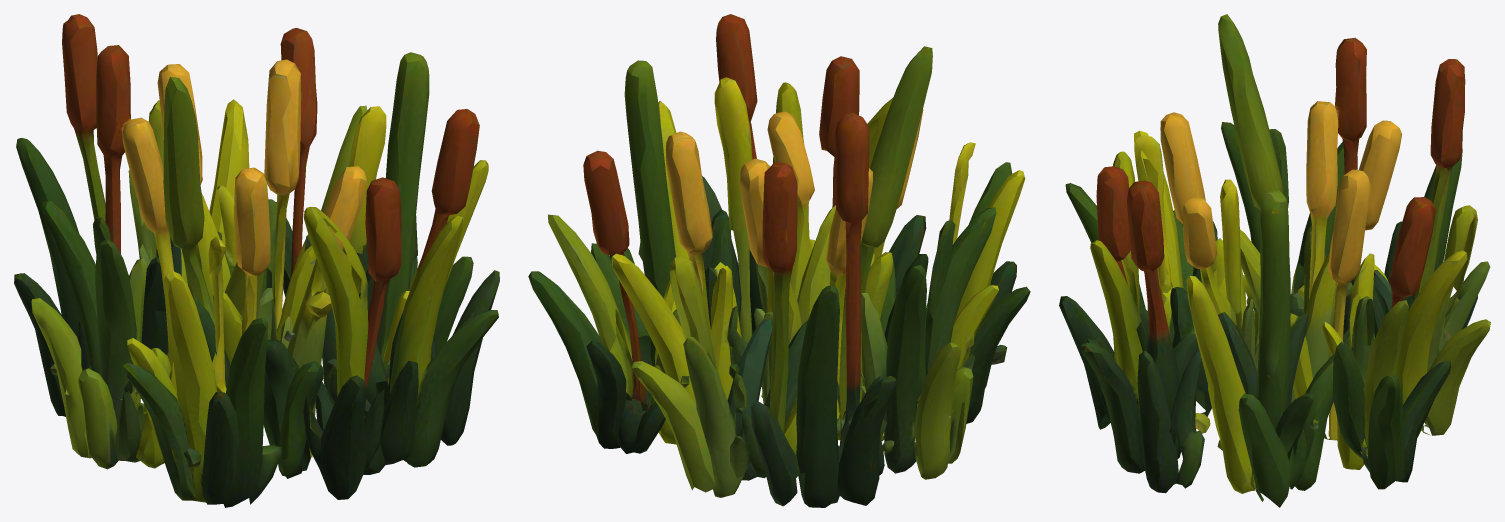
File: a-dense-clump-of-tall-swamp-reed-b569ba.glb
The picture shows the model from 3 angles, left to right: view 1: azimuth 30°, elevation 25°; view 2: azimuth 150°, elevation 25°; view 3: azimuth 270°, elevation 25°; orthographic projection. The views are drawn at different scales.
Visible parts, largest first — view 1: geometry_0; view 2: geometry_0; view 3: geometry_0.
Part boxes in pixels (left/top/right/bottom): geometry_0: left=14, top=14, right=499, bottom=507; geometry_0: left=528, top=14, right=1030, bottom=507; geometry_0: left=1059, top=14, right=1490, bottom=507.
Size of the model in its own units: 0.9943 by 0.9449 by 1.
Materials: 1 (1 with a texture image).
